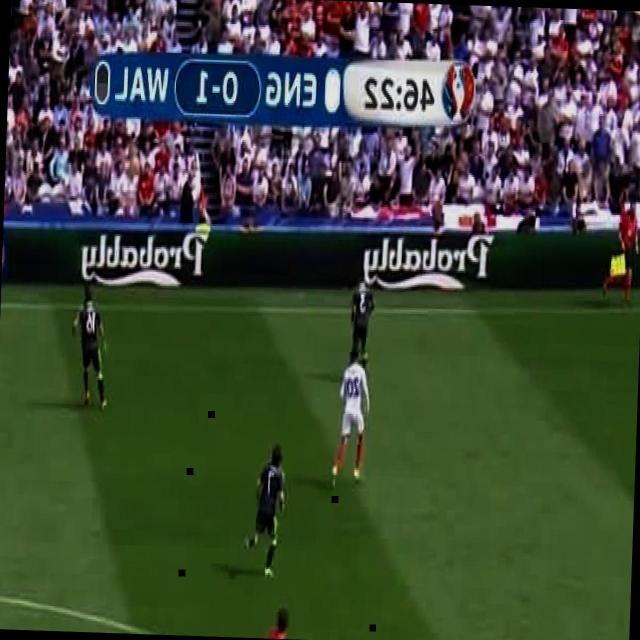player-white: (242, 444, 286, 584), (331, 345, 372, 489), (70, 284, 110, 408), (603, 200, 640, 297), (346, 271, 376, 371), (233, 607, 292, 639)
